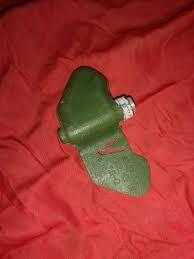PMF 1: (54, 65, 151, 199)
